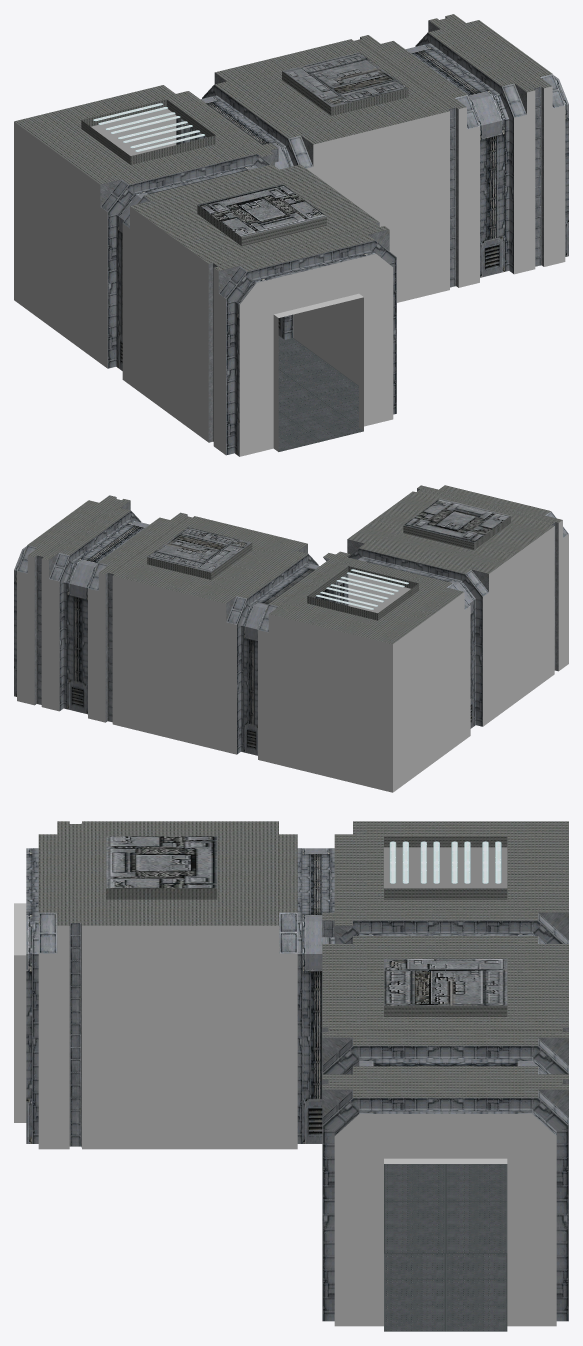
Rendered from poi_all_impl_bunker_warren_s01_r19_hall19_mesh_r19.fbx.
3 views of the same model, one above another, from view 1: azimuth 30°, elevation 25°; view 2: azimuth 150°, elevation 25°; view 3: azimuth 270°, elevation 25° (orthographic). The views are drawn at different scales.
Visible parts, largest first — view 1: mesh_node; view 2: mesh_node; view 3: mesh_node.
Part boxes in pixels (x1,y1,x2,y2): mesh_node: (14,14,568,456); mesh_node: (14,485,568,792); mesh_node: (14,821,568,1331).
Size of the model in its own units: 11 by 4.2 by 9.
